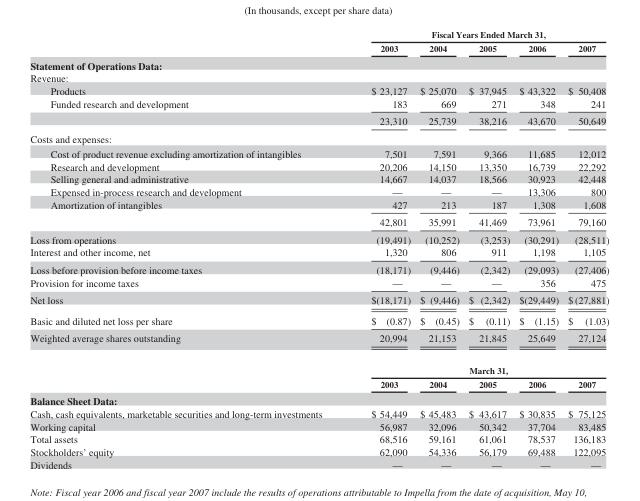table: (29, 28, 608, 469)
table column: (29, 28, 346, 469), (346, 28, 414, 469), (463, 28, 513, 469), (414, 28, 463, 469), (513, 28, 562, 469), (562, 28, 608, 469)
table column header: (29, 28, 608, 56)
table projected row header: (29, 129, 608, 145), (29, 391, 608, 407), (29, 56, 608, 71), (29, 71, 608, 84)
table row: (29, 329, 608, 354), (29, 354, 608, 376), (29, 291, 608, 310), (29, 310, 608, 329), (29, 111, 608, 129), (29, 212, 608, 230), (29, 40, 608, 56), (29, 129, 608, 145), (29, 260, 608, 276), (29, 391, 608, 407), (29, 56, 608, 71), (29, 96, 608, 111), (29, 197, 608, 212), (29, 230, 608, 245), (29, 245, 608, 260), (29, 276, 608, 291), (29, 376, 608, 391), (29, 145, 608, 159), (29, 71, 608, 84), (29, 159, 608, 172), (29, 172, 608, 185), (29, 419, 608, 432), (29, 432, 608, 445), (29, 28, 608, 40), (29, 84, 608, 96), (29, 185, 608, 197), (29, 407, 608, 419), (29, 445, 608, 457), (29, 457, 608, 469)
table spanning cell: (346, 354, 608, 376), (346, 28, 608, 40)
